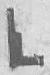Q1: (5, 1, 45, 75)
